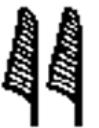Reed: (44, 2, 87, 127), (1, 4, 43, 127)
